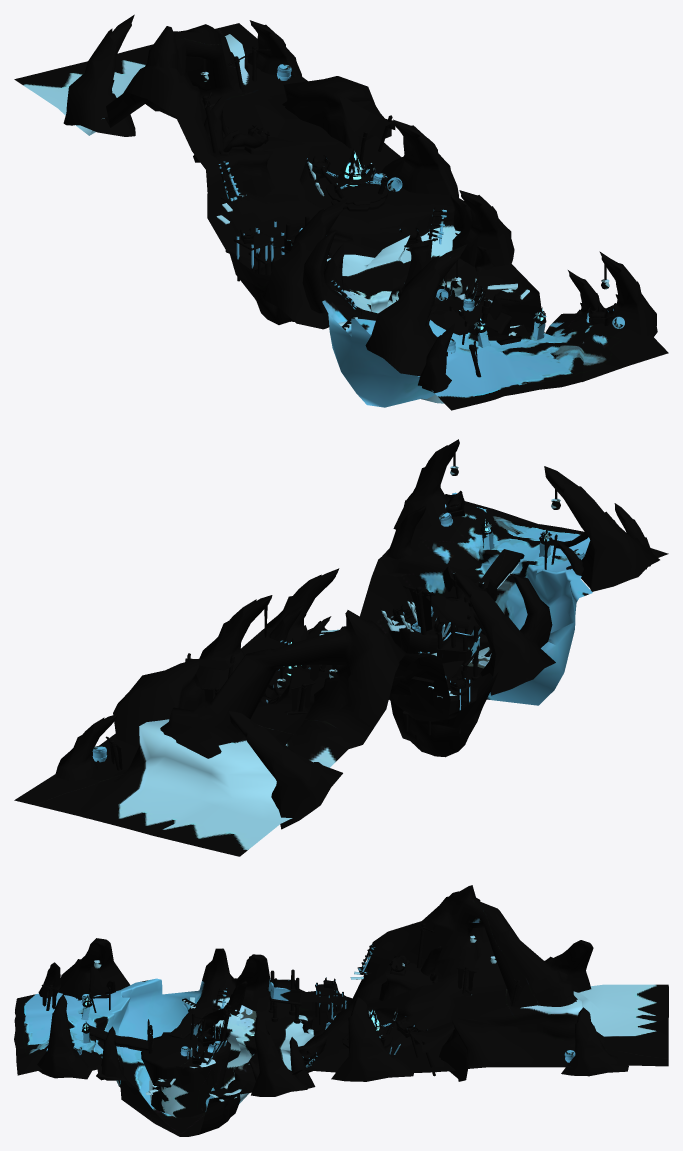
The model's file is delete_this_stage1.gltf.
The picture shows the model from 3 angles, top to bottom: view 1: azimuth 30°, elevation 25°; view 2: azimuth 150°, elevation 25°; view 3: azimuth 270°, elevation 25°; orthographic projection. The views are drawn at different scales.
Parts seen in each view (by area): view 1: Object_4, Object_3, Object_2; view 2: Object_4, Object_2, Object_3; view 3: Object_4, Object_2, Object_3.
Part boxes in pixels (left/top/right/bottom): Object_4: left=14, top=14, right=668, bottom=410; Object_3: left=186, top=46, right=624, bottom=377; Object_2: left=200, top=59, right=609, bottom=403; Object_4: left=14, top=439, right=668, bottom=856; Object_2: left=277, top=450, right=659, bottom=739; Object_3: left=92, top=490, right=615, bottom=770; Object_4: left=14, top=885, right=668, bottom=1136; Object_2: left=58, top=935, right=496, bottom=1117; Object_3: left=41, top=923, right=575, bottom=1101.
Size of the model in its own units: 29.57 by 25.02 by 82.35.
